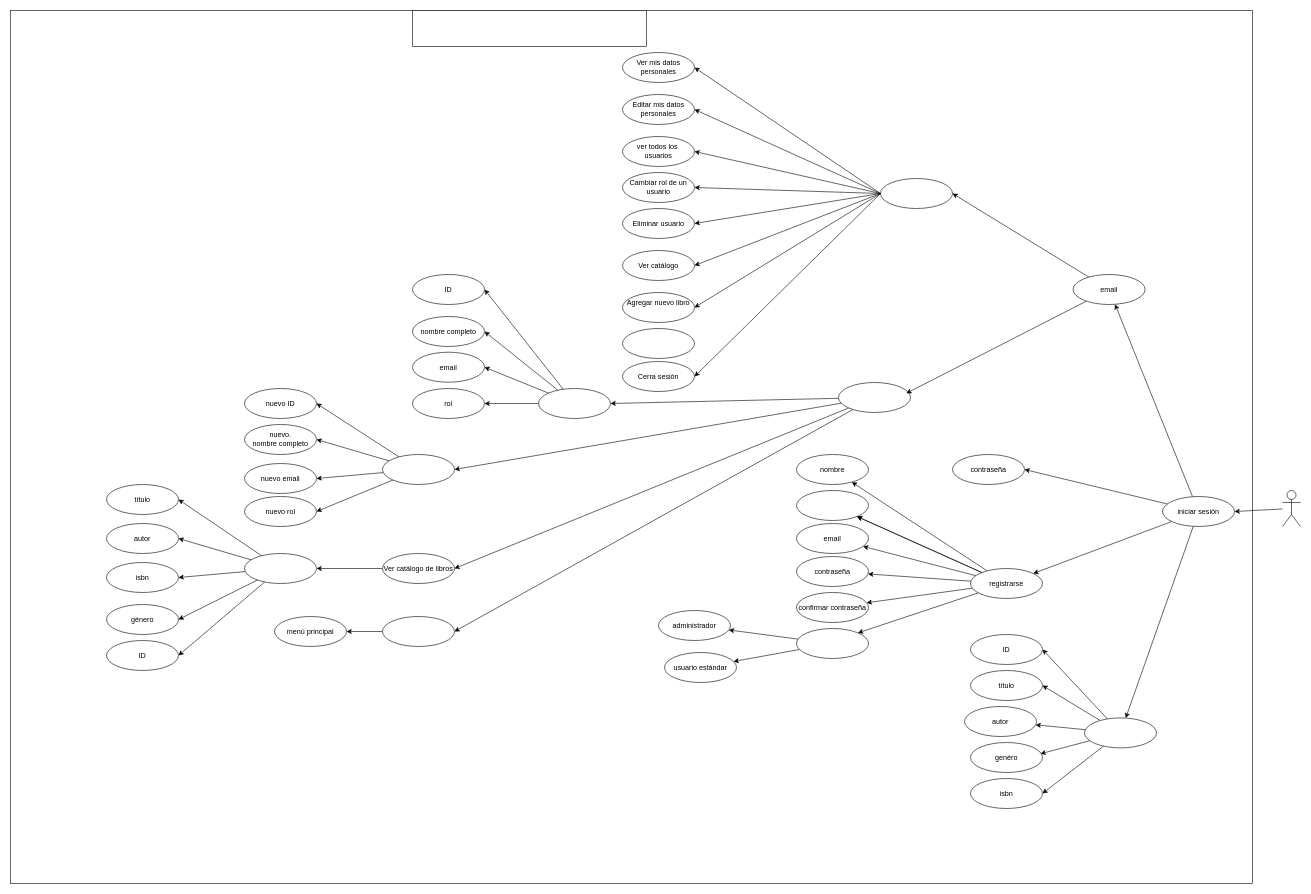
Some shapes in this 1311 by 894 pixel diagram are drawn without their labels. Each missing label, with the centre of its shape:
"Actor" goes at point (1291, 508).
"apellido" goes at point (832, 505).
"Cerrar sesión" goes at point (418, 631).
"Editar mis datos" goes at point (418, 469).
"Eliminar libro" goes at point (658, 343).
"Libro" goes at point (280, 568).
"menú administrador" goes at point (916, 193).
"menú usuario" goes at point (874, 397).
"MODELO DE CASO DE USO- MENÚ" goes at point (529, 28).
"selecciona rol" goes at point (832, 643).
"Ver libros" goes at point (1120, 732).
"Ver mis datos" goes at point (574, 403).
